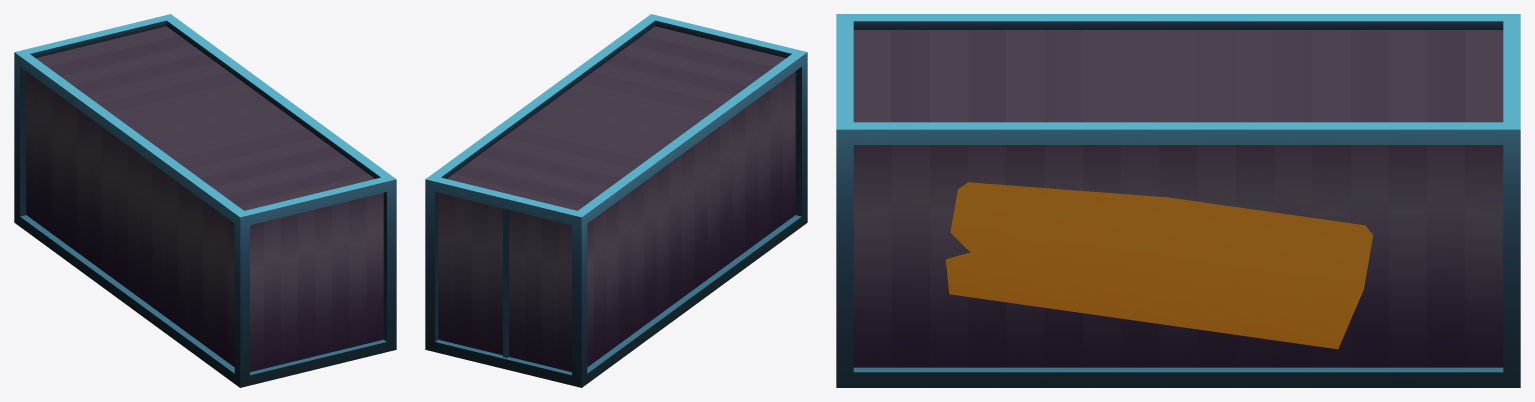
Rendered from Container_1K.fbx.
3 views of the same model, side by side, from view 1: azimuth 30°, elevation 25°; view 2: azimuth 150°, elevation 25°; view 3: azimuth 270°, elevation 25° (orthographic). The views are drawn at different scales.
Visible parts, largest first — view 1: Container_1K; view 2: Container_1K; view 3: Container_1K.
Part boxes in pixels (<box>): Container_1K: <box>14,14,396,387</box>; Container_1K: <box>425,14,807,387</box>; Container_1K: <box>836,14,1520,387</box>.
Size of the model in its own units: 2.4 by 2.5 by 6.
